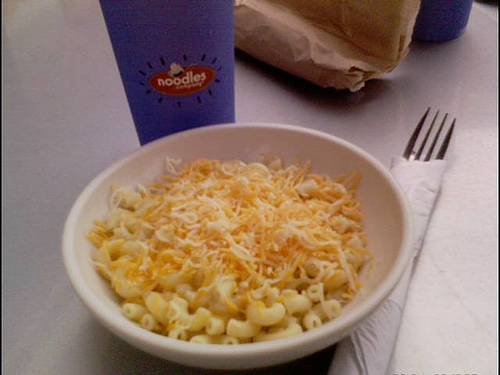macncheese: (92, 152, 367, 342)
